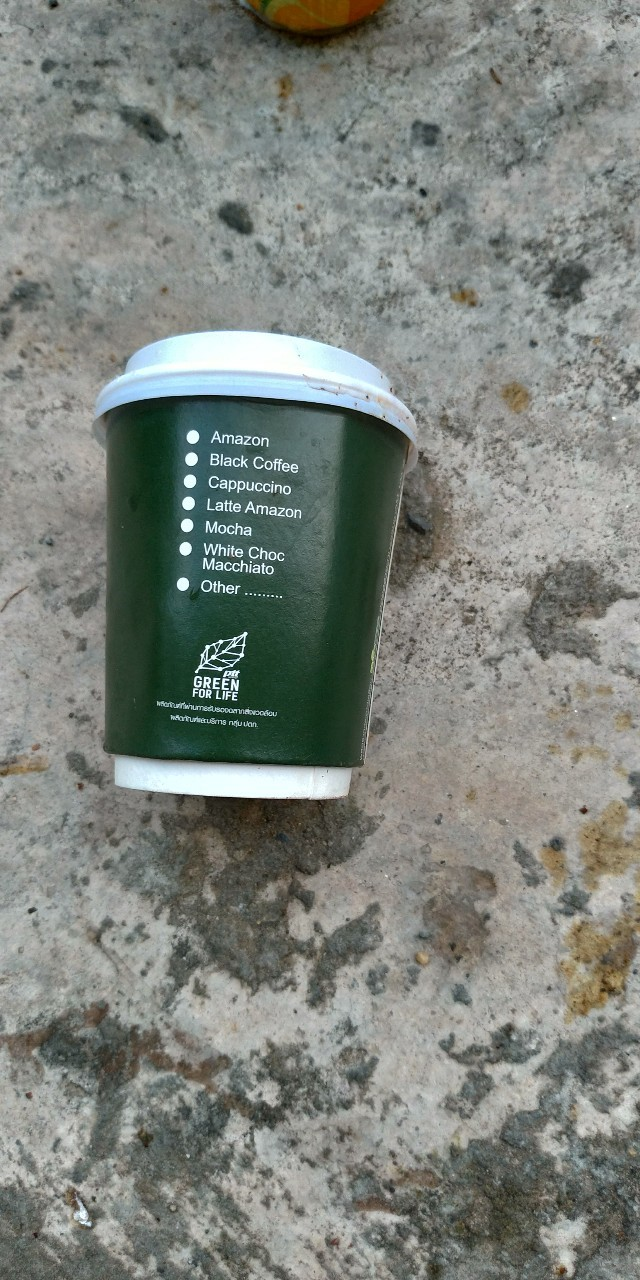PaperCup: (93, 333, 417, 804)
